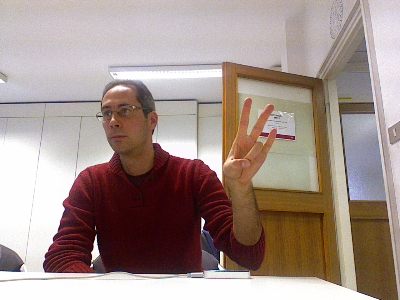观音: (220, 96, 277, 185)
